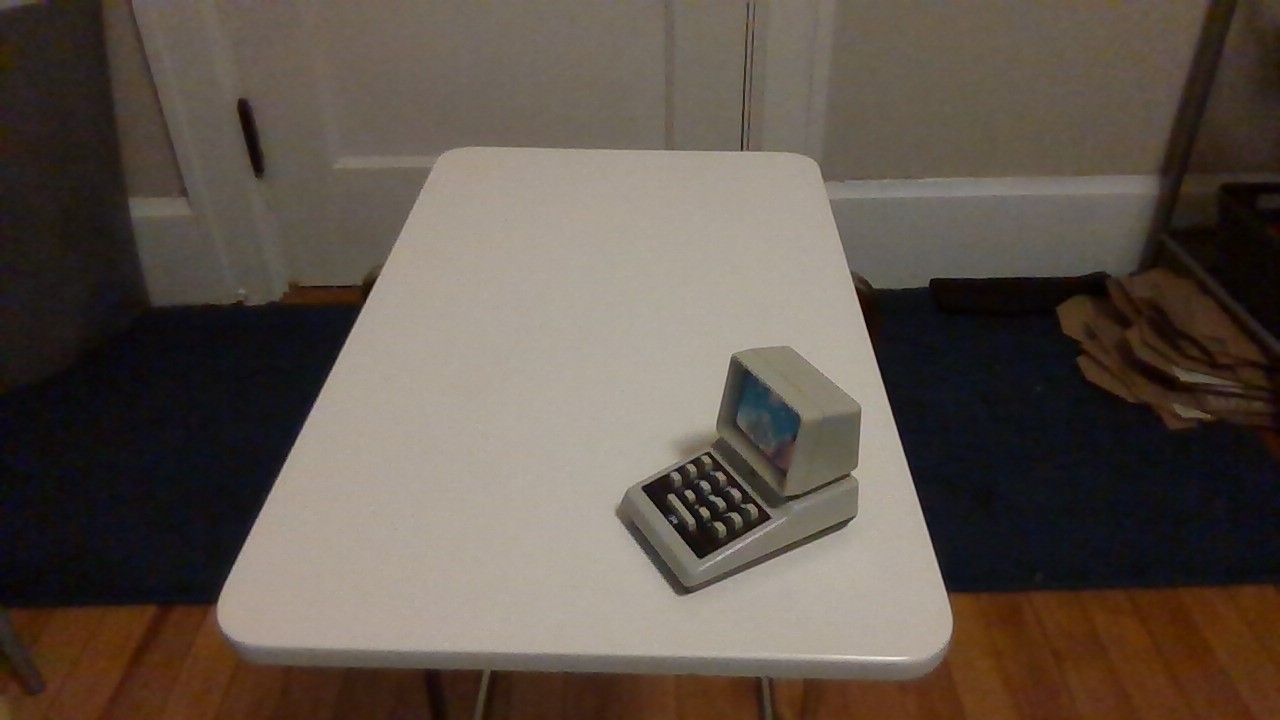Toy: (611, 328, 893, 603)
